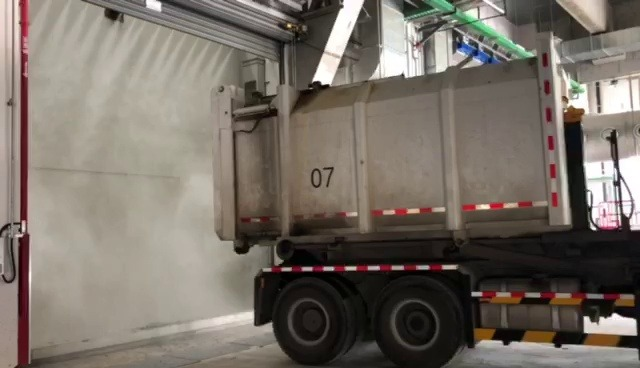dust: (31, 125, 208, 304)
truck: (200, 44, 640, 368)
